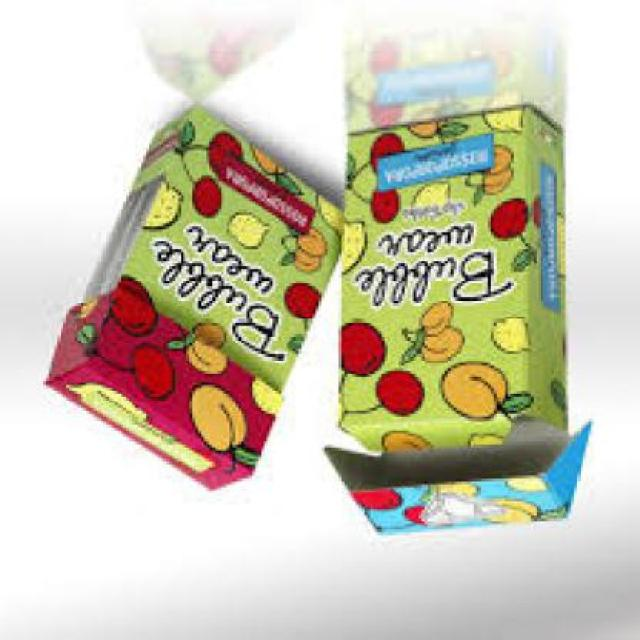CARDBOARD: (45, 111, 350, 492), (330, 111, 598, 538)
